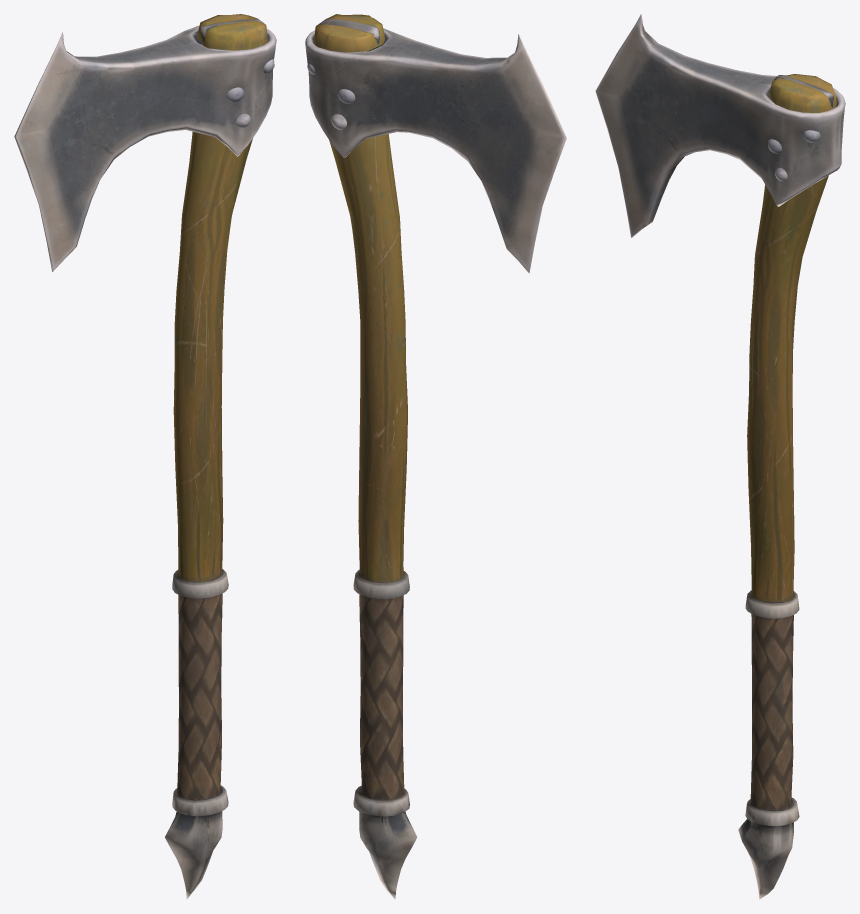
The picture shows the model from 3 angles, left to right: view 1: azimuth 30°, elevation 25°; view 2: azimuth 150°, elevation 25°; view 3: azimuth 330°, elevation 25°; orthographic projection. The views are drawn at different scales.
Visible parts, largest first — view 1: SM_LoggingAxe_Steel_2H_01_LOD0; view 2: SM_LoggingAxe_Steel_2H_01_LOD0; view 3: SM_LoggingAxe_Steel_2H_01_LOD0.
Part boxes in pixels (<box>): SM_LoggingAxe_Steel_2H_01_LOD0: <box>14,14,276,899</box>; SM_LoggingAxe_Steel_2H_01_LOD0: <box>305,14,566,899</box>; SM_LoggingAxe_Steel_2H_01_LOD0: <box>595,14,845,899</box>.
Bounding box in the file's own units: 0.3433 × 1.14 × 0.0929.
1 material, 1 textured.
